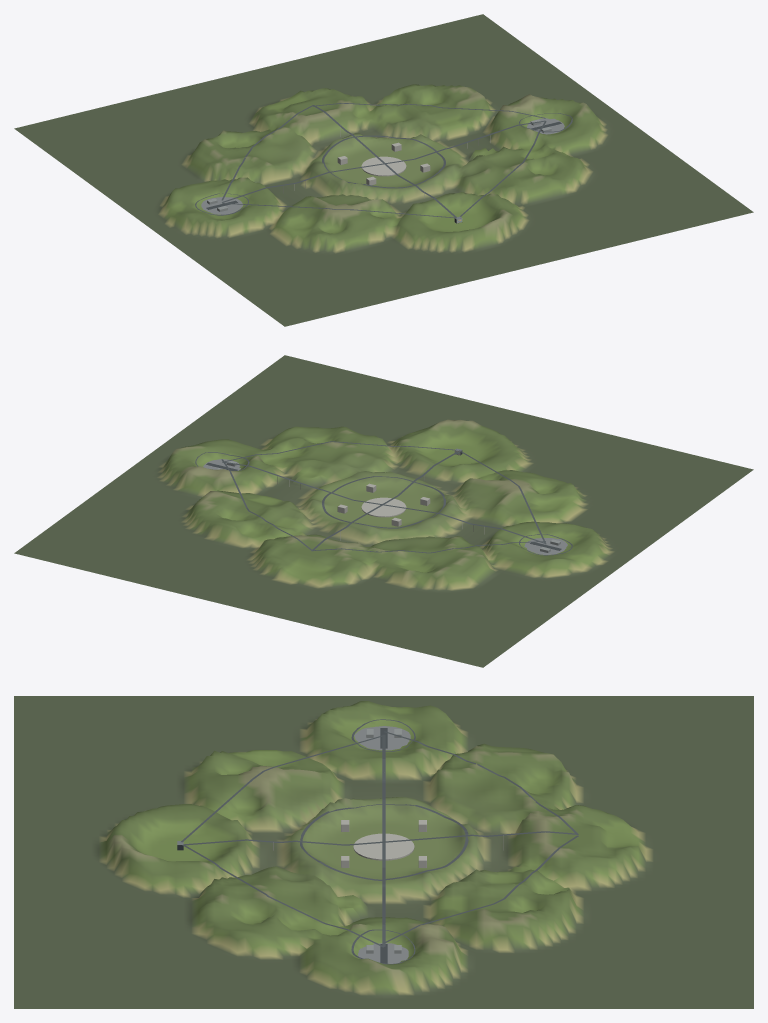
The model's file is starter-coast-world-authored-v2-lod1.glb.
3 renders of one model, top to bottom at view 1: azimuth 30°, elevation 25°; view 2: azimuth 150°, elevation 25°; view 3: azimuth 270°, elevation 25°, orthographic. The views are drawn at different scales.
Visible parts, largest first — view 1: Starter_Coast_LOD1__Terrain surface__batch, Starter_Coast_LOD1__Road surface__batch, Starter_Coast_LOD1__Bunker concrete__batch, Starter_Coast_LOD1__Airbase deck__batch; view 2: Starter_Coast_LOD1__Terrain surface__batch, Starter_Coast_LOD1__Road surface__batch, Starter_Coast_LOD1__Bunker concrete__batch, Starter_Coast_LOD1__Airbase deck__batch; view 3: Starter_Coast_LOD1__Terrain surface__batch, Starter_Coast_LOD1__Road surface__batch, Starter_Coast_LOD1__Bunker concrete__batch, Starter_Coast_LOD1__Airbase deck__batch.
Part boxes in pixels (bbox=[...]): Starter_Coast_LOD1__Terrain surface__batch: bbox=[14, 14, 753, 326]; Starter_Coast_LOD1__Road surface__batch: bbox=[195, 103, 572, 218]; Starter_Coast_LOD1__Bunker concrete__batch: bbox=[283, 127, 490, 223]; Starter_Coast_LOD1__Airbase deck__batch: bbox=[201, 118, 564, 214]; Starter_Coast_LOD1__Terrain surface__batch: bbox=[14, 355, 753, 667]; Starter_Coast_LOD1__Road surface__batch: bbox=[195, 441, 572, 555]; Starter_Coast_LOD1__Bunker concrete__batch: bbox=[277, 450, 484, 540]; Starter_Coast_LOD1__Airbase deck__batch: bbox=[203, 459, 567, 554]; Starter_Coast_LOD1__Terrain surface__batch: bbox=[14, 696, 753, 1008]; Starter_Coast_LOD1__Road surface__batch: bbox=[181, 719, 578, 964]; Starter_Coast_LOD1__Bunker concrete__batch: bbox=[273, 820, 503, 867]; Starter_Coast_LOD1__Airbase deck__batch: bbox=[354, 726, 410, 963].
Size of the model in its own units: 8000 by 277 by 8000.
